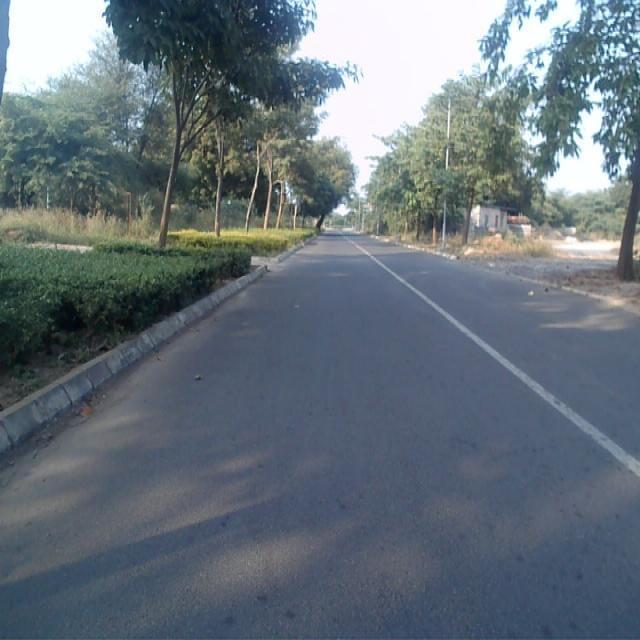lane: (0, 233, 640, 640)
